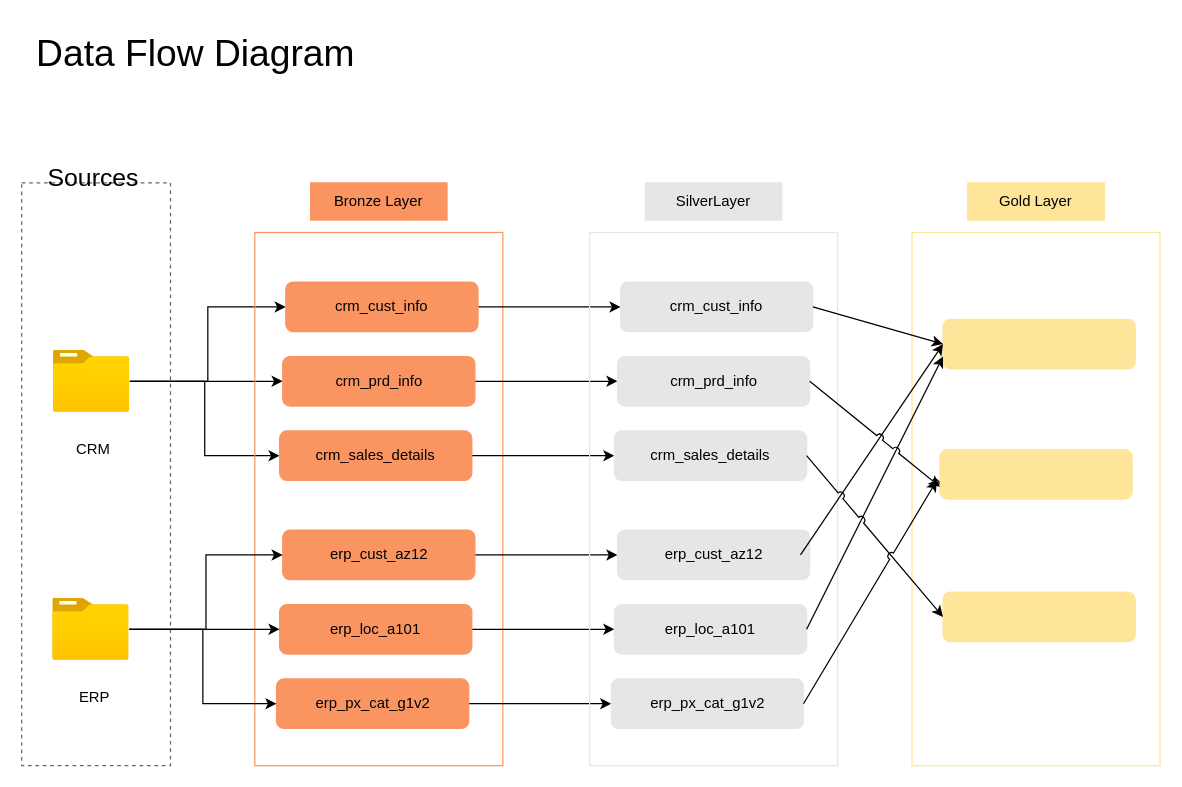
This 1182x787 diagram has some shape labels left out. The shapes that lost their labels are listed below. From the top down, each one's centre as x and y in pixels, then its label:
the point at 1038,343: dim_customers
the point at 1035,473: dim_products
the point at 1038,616: fact_sales
